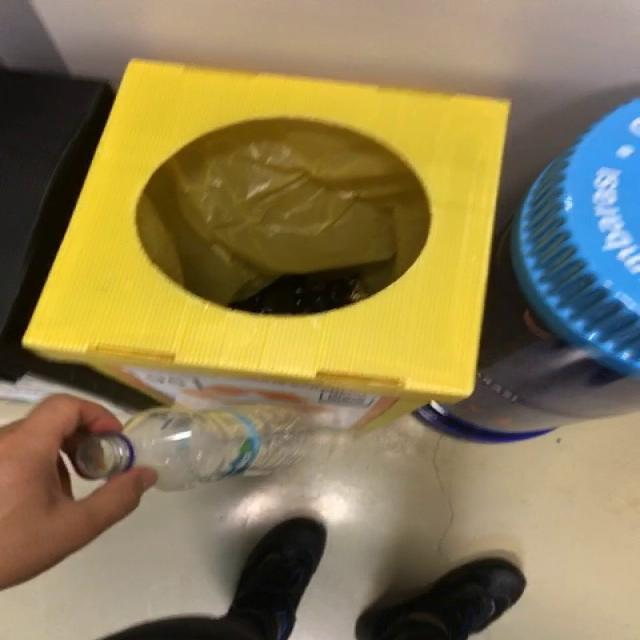Plastic: (65, 405, 315, 490)
